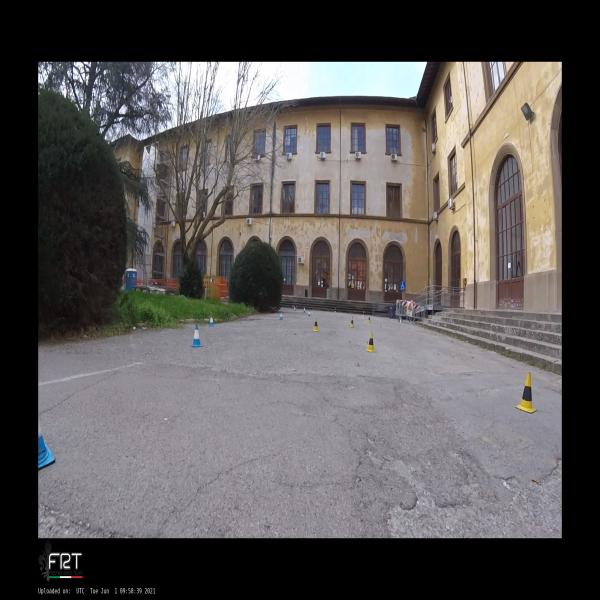blue_cone: (39, 423, 56, 471), (190, 323, 203, 348), (208, 316, 215, 328), (278, 312, 284, 320), (308, 309, 311, 317), (303, 307, 306, 313), (294, 306, 296, 311)
yellow_cone: (515, 372, 537, 414), (365, 332, 376, 352), (313, 318, 319, 332), (349, 317, 354, 328), (368, 315, 372, 323), (334, 307, 337, 313), (362, 311, 364, 317)
